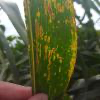Corn leaf blight: (21, 1, 79, 86)
